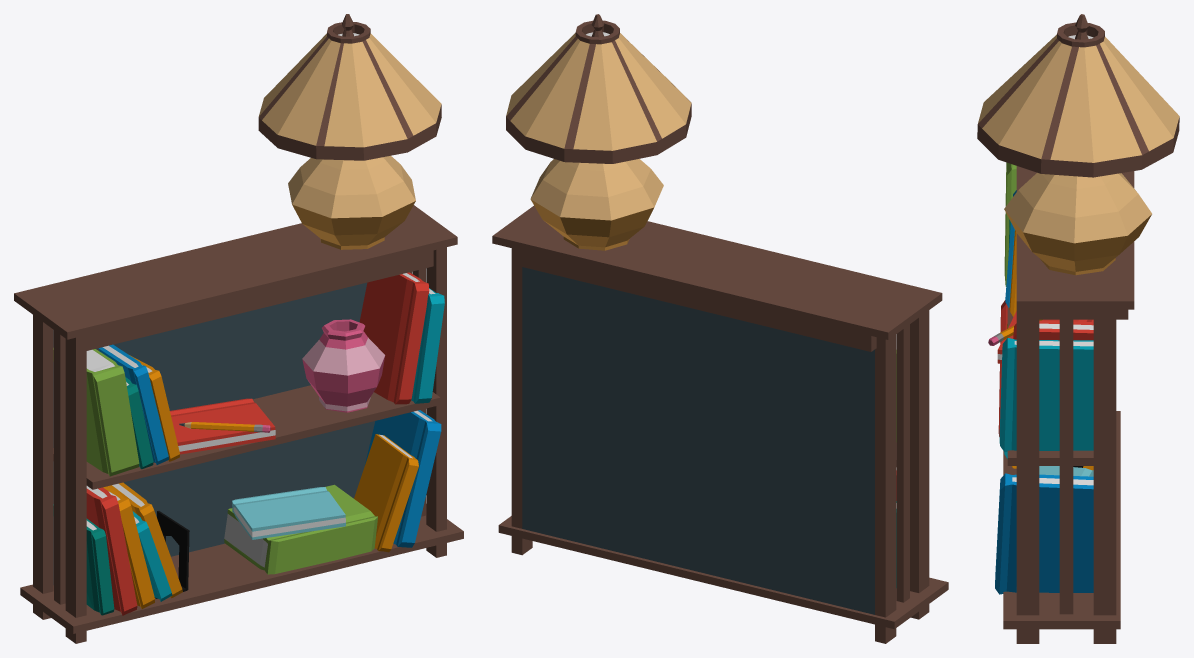
Rendered from Little Bookcase.glb.
3 views of the same model, side by side, from view 1: azimuth 30°, elevation 25°; view 2: azimuth 150°, elevation 25°; view 3: azimuth 270°, elevation 25° (orthographic). The views are drawn at different scales.
Parts seen in each view (by area): view 1: node_MeshObject1957760000-PolyPaper20; view 2: node_MeshObject1957760000-PolyPaper20; view 3: node_MeshObject1957760000-PolyPaper20.
Part boxes in pixels (x1=…): node_MeshObject1957760000-PolyPaper20: x1=14, y1=14, x2=463, y2=643; node_MeshObject1957760000-PolyPaper20: x1=492, y1=14, x2=948, y2=643; node_MeshObject1957760000-PolyPaper20: x1=977, y1=14, x2=1179, y2=643.
Bounding box in the file's own units: 1.1 × 1.44 × 0.4475.
